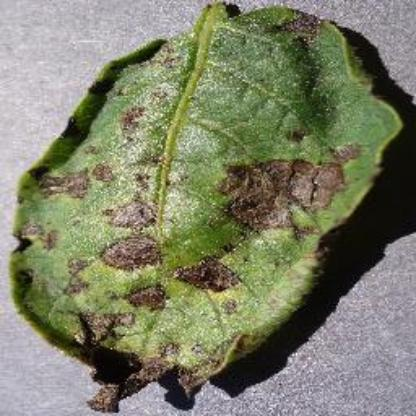Early-Blight: (12, 7, 406, 399)
